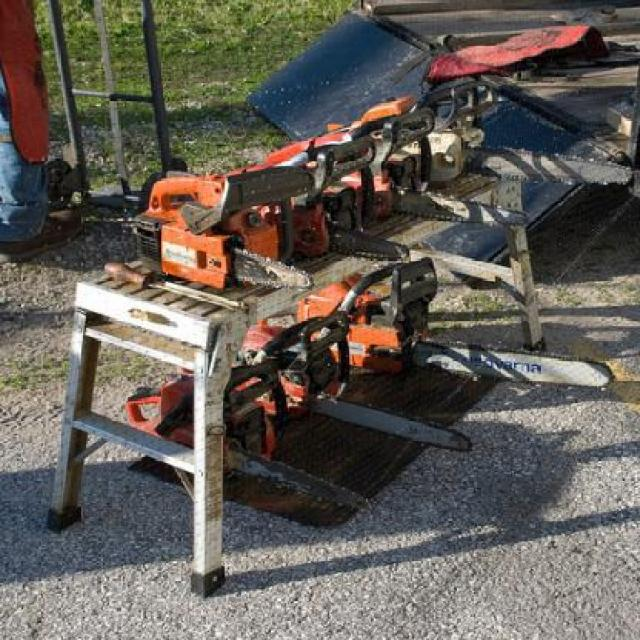Chainsaw: (268, 255, 615, 391), (128, 370, 372, 512), (238, 314, 472, 454), (358, 80, 634, 186), (310, 109, 528, 228), (126, 162, 314, 290), (246, 142, 411, 258)
